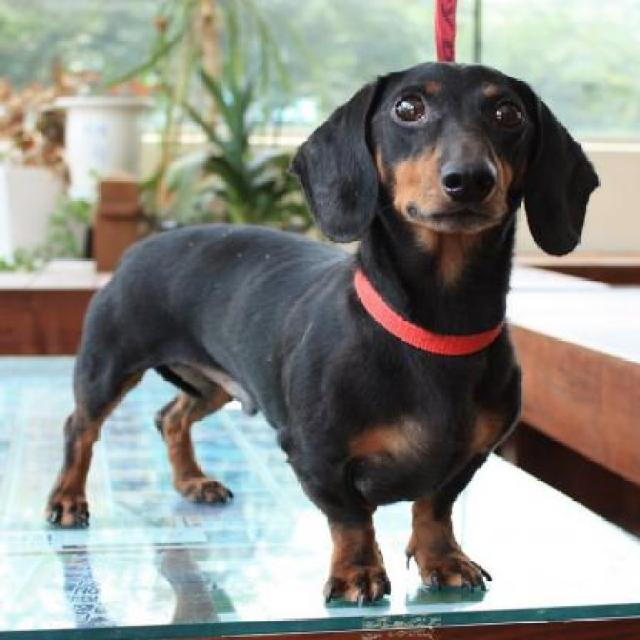Dog: (39, 63, 602, 609)
